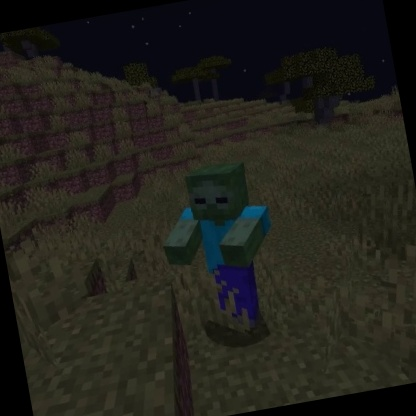zombie: (148, 152, 292, 345)
